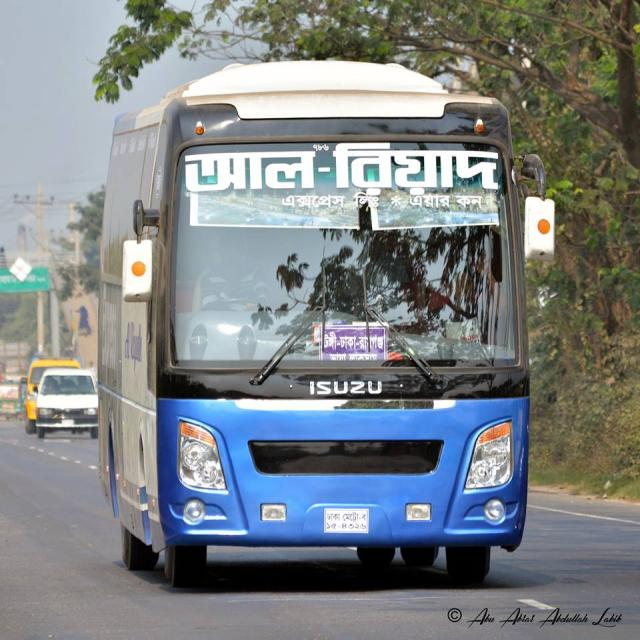bus: (97, 58, 559, 586)
